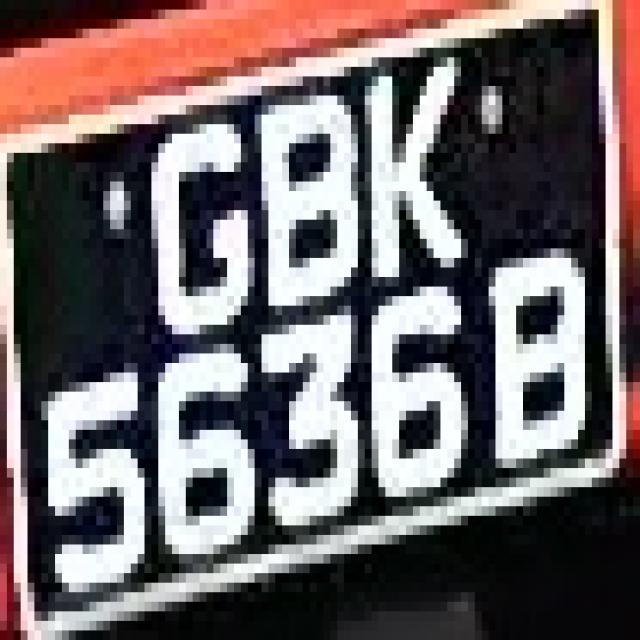3: (241, 315, 365, 535)
5: (27, 353, 152, 602)
6: (351, 248, 454, 516), (152, 325, 262, 573)
B: (461, 210, 599, 487), (241, 67, 358, 315)
G: (131, 76, 268, 334)
K: (344, 29, 482, 296)
